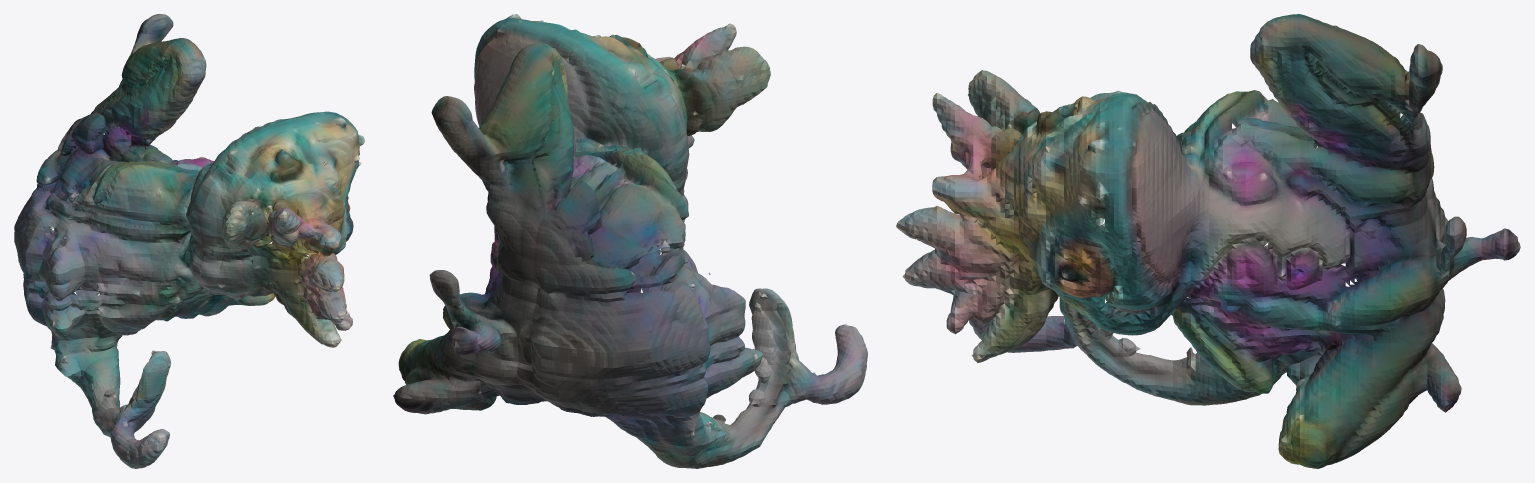
File: frog.glb
The picture shows the model from 3 angles, left to right: view 1: azimuth 30°, elevation 25°; view 2: azimuth 150°, elevation 25°; view 3: azimuth 270°, elevation 25°; orthographic projection. The views are drawn at different scales.
Visible parts, largest first — view 1: world; view 2: world; view 3: world.
Part boxes in pixels (bbox=[...]): world: bbox=[14, 14, 364, 468]; world: bbox=[393, 14, 867, 468]; world: bbox=[896, 14, 1520, 468].
Size of the model in its own units: 0.6486 by 0.7604 by 0.9347.
